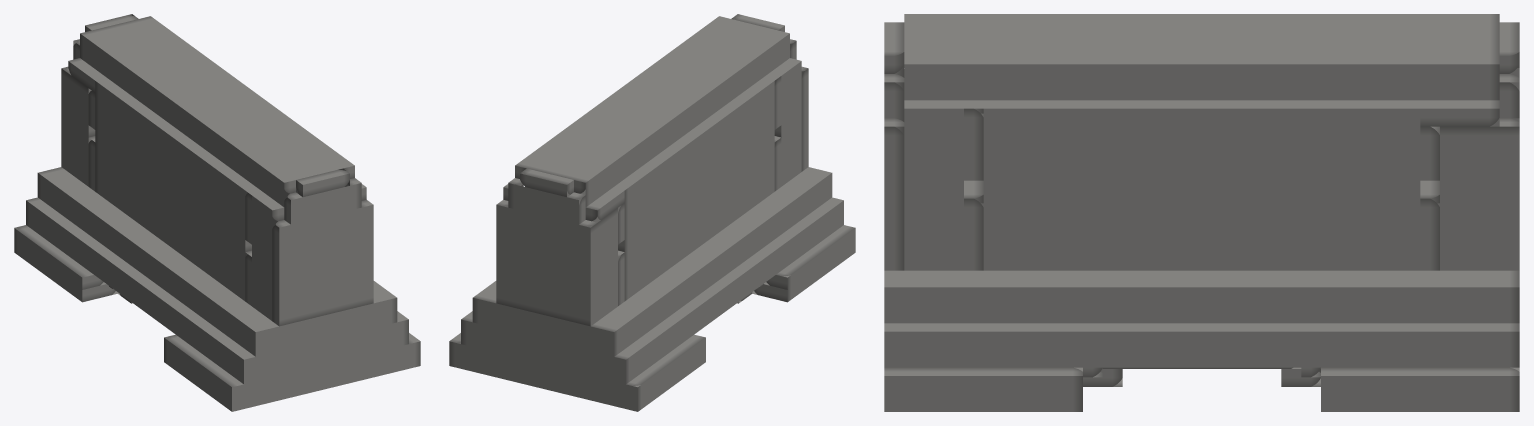
Rendered from blokada_drogowa_non_kolo.dae.
3 renders of one model, left to right at view 1: azimuth 30°, elevation 25°; view 2: azimuth 150°, elevation 25°; view 3: azimuth 270°, elevation 25°, orthographic. The views are drawn at different scales.
Visible parts, largest first — view 1: Content; view 2: Content; view 3: Content.
Boxes of the visible parts, x1,y1,x2,y2 form: Content: (14,14,420,411); Content: (449,14,855,411); Content: (884,14,1519,411).
Bounding box in the file's own units: 16 × 17 × 32.
1 material, 1 textured.
